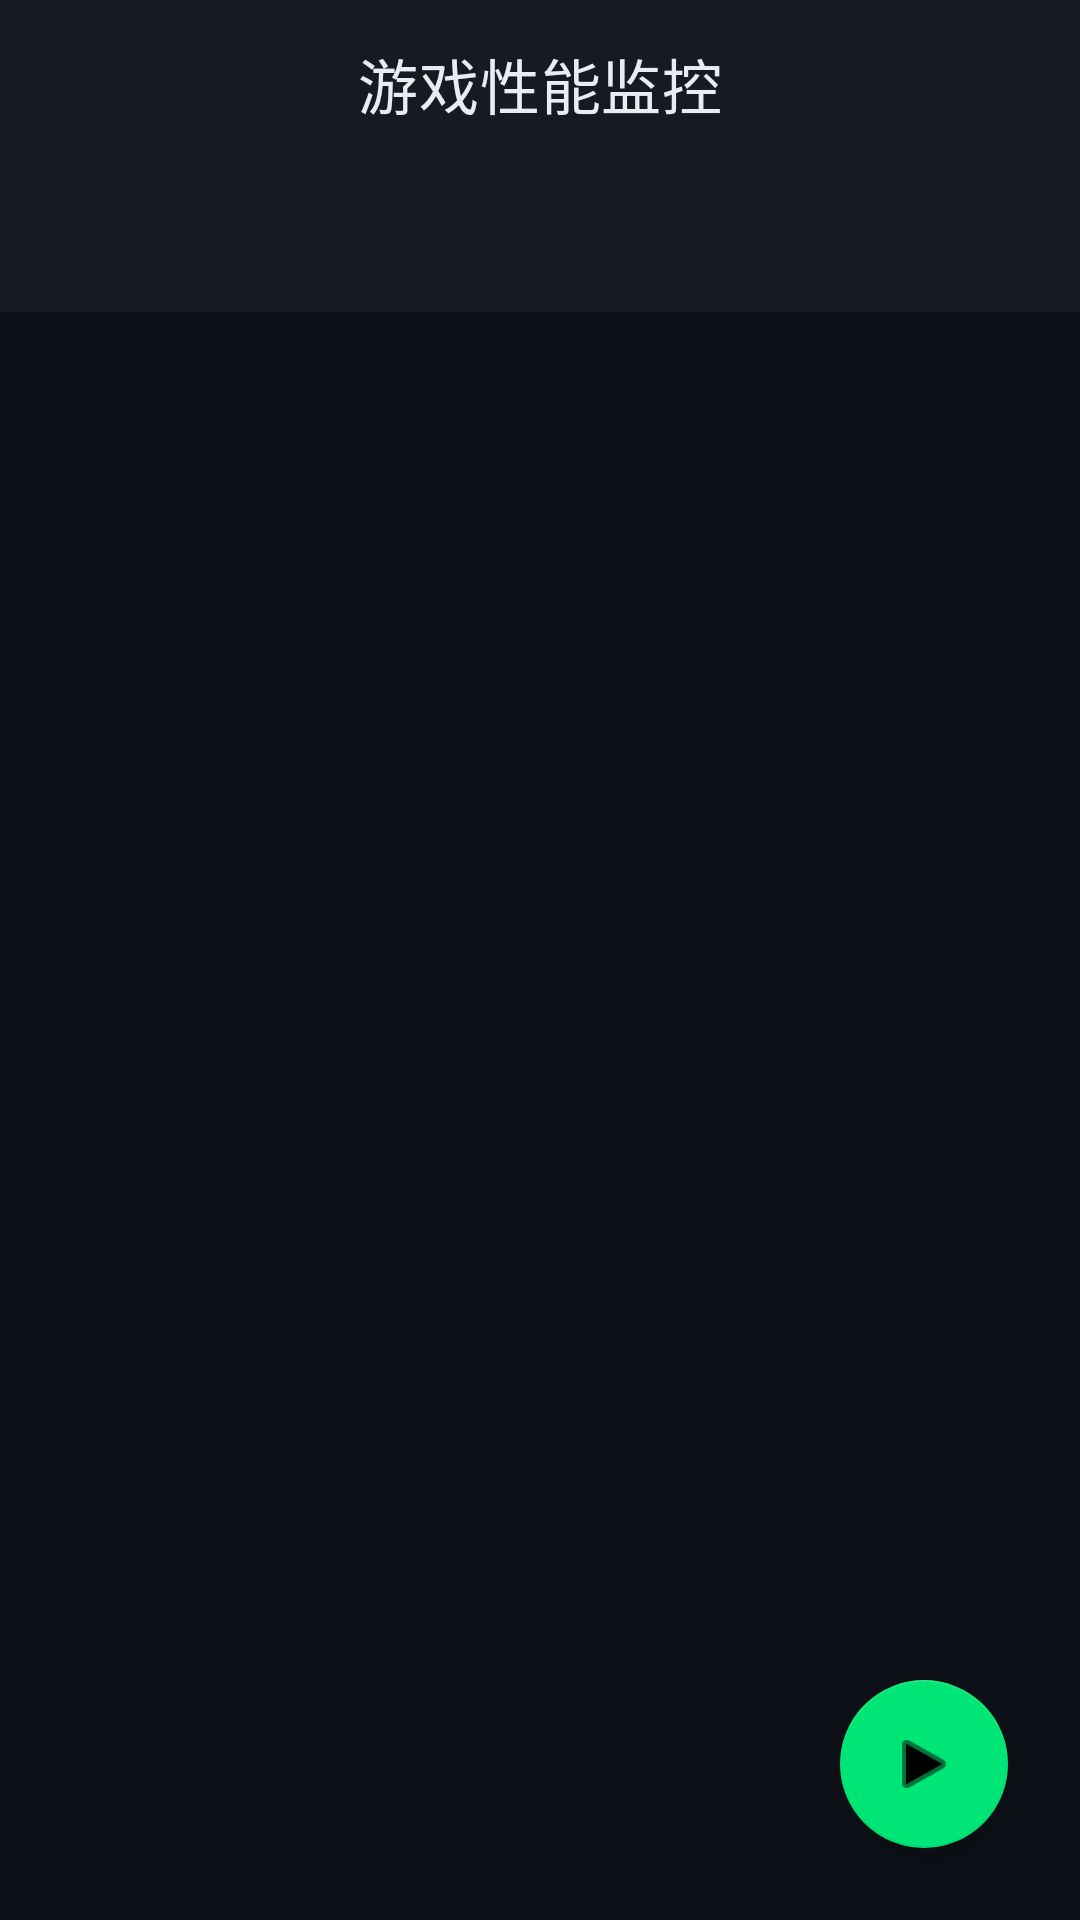

Icons on this 1080w x 1920h Android screen, each with its box as (left=x1, top=y1, right=x2, bottom=y2):
开始/停止监控: (left=840, top=1680, right=1008, bottom=1848)
